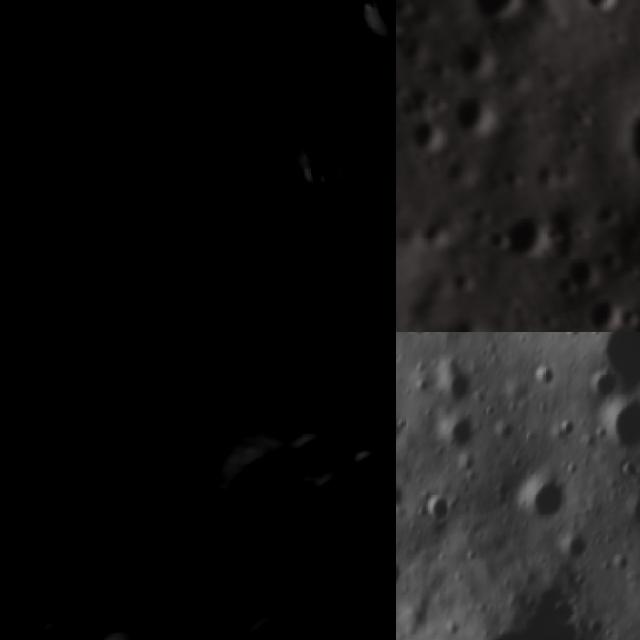crater: (181, 410, 326, 557), (159, 534, 288, 640), (100, 528, 214, 640), (0, 489, 108, 598), (444, 576, 622, 640), (288, 460, 366, 538), (0, 533, 57, 639), (12, 196, 82, 281), (278, 414, 355, 491), (226, 584, 310, 640), (40, 587, 126, 640), (286, 524, 352, 592), (169, 502, 236, 568), (349, 338, 396, 422), (591, 385, 640, 461), (503, 472, 569, 528), (336, 434, 394, 491), (339, 544, 396, 602), (0, 348, 51, 411), (262, 396, 318, 452), (112, 400, 167, 455), (64, 332, 118, 387), (500, 208, 554, 262), (78, 611, 178, 640), (0, 445, 39, 519), (436, 362, 499, 407), (162, 372, 214, 423), (70, 138, 119, 190), (70, 256, 118, 307), (448, 32, 501, 78), (201, 232, 247, 283), (309, 573, 356, 622), (454, 94, 504, 140), (411, 483, 457, 532), (429, 412, 476, 458), (0, 389, 30, 455), (0, 137, 34, 194), (564, 252, 608, 296), (64, 415, 109, 458), (408, 114, 450, 158), (353, 0, 396, 42), (74, 0, 148, 23), (583, 293, 626, 332), (7, 304, 66, 332), (26, 609, 73, 640), (558, 523, 594, 563), (84, 487, 120, 526), (473, 0, 533, 23), (418, 218, 454, 255), (91, 332, 138, 359), (444, 266, 481, 296), (45, 332, 85, 359), (487, 222, 518, 256), (443, 309, 488, 332), (550, 274, 582, 303), (502, 166, 528, 192), (382, 562, 396, 605), (578, 0, 632, 11), (0, 0, 24, 18), (396, 554, 406, 592), (396, 6, 405, 43), (398, 332, 437, 340)
